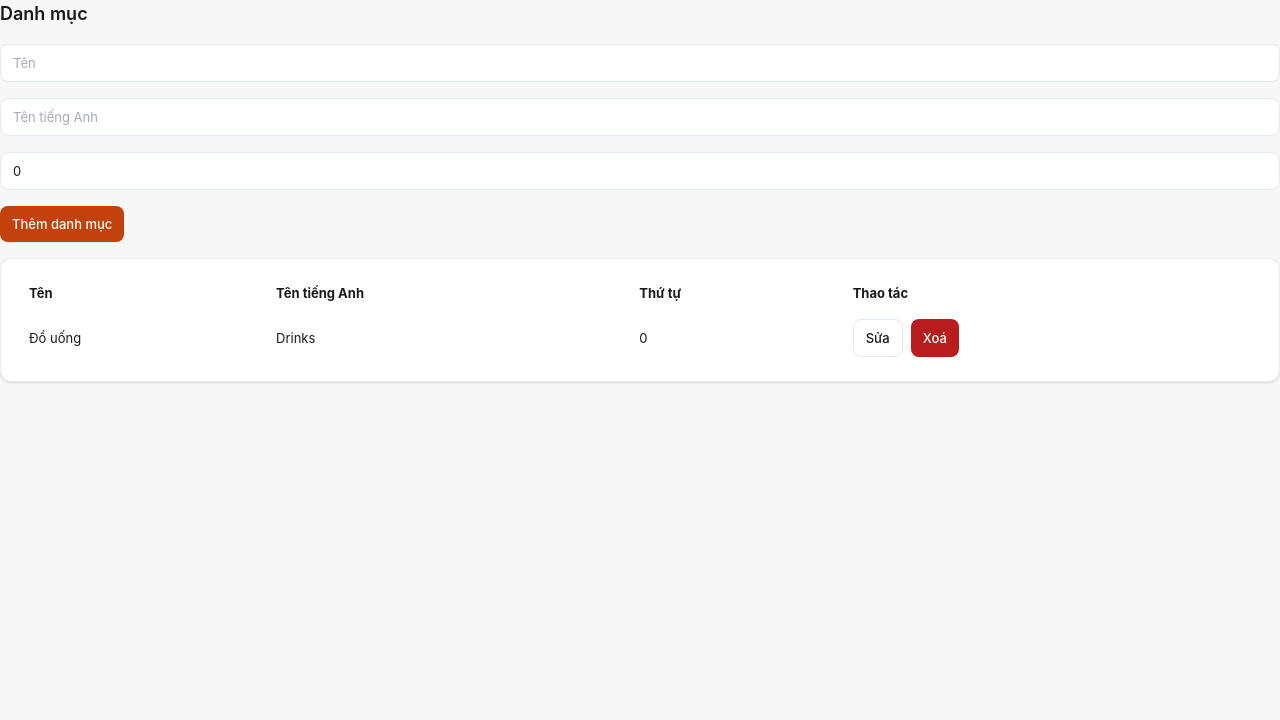
CategoryList › names the category being removed in the confirmation
The image size is (1280, 720).
Click the button "Xoá" at (935, 338), box [911, 319, 959, 357]
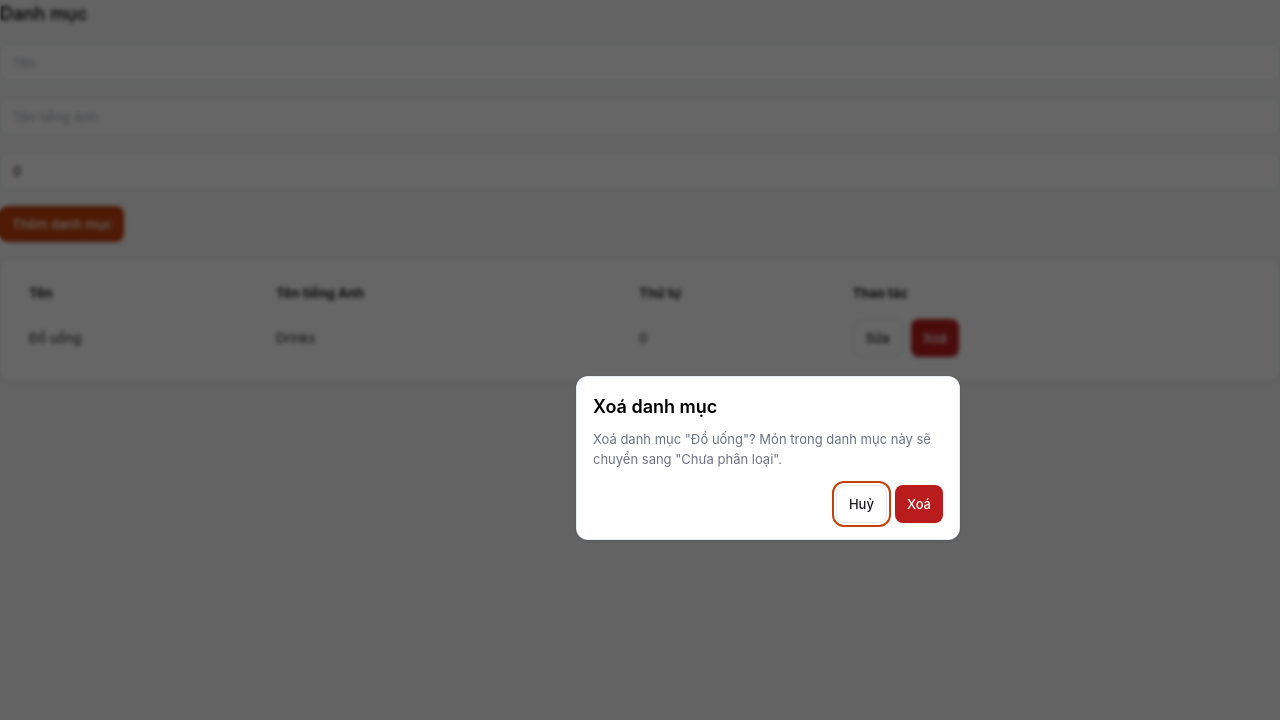
expect the dialog shows "Đồ uống": met, box [593, 431, 931, 467]
